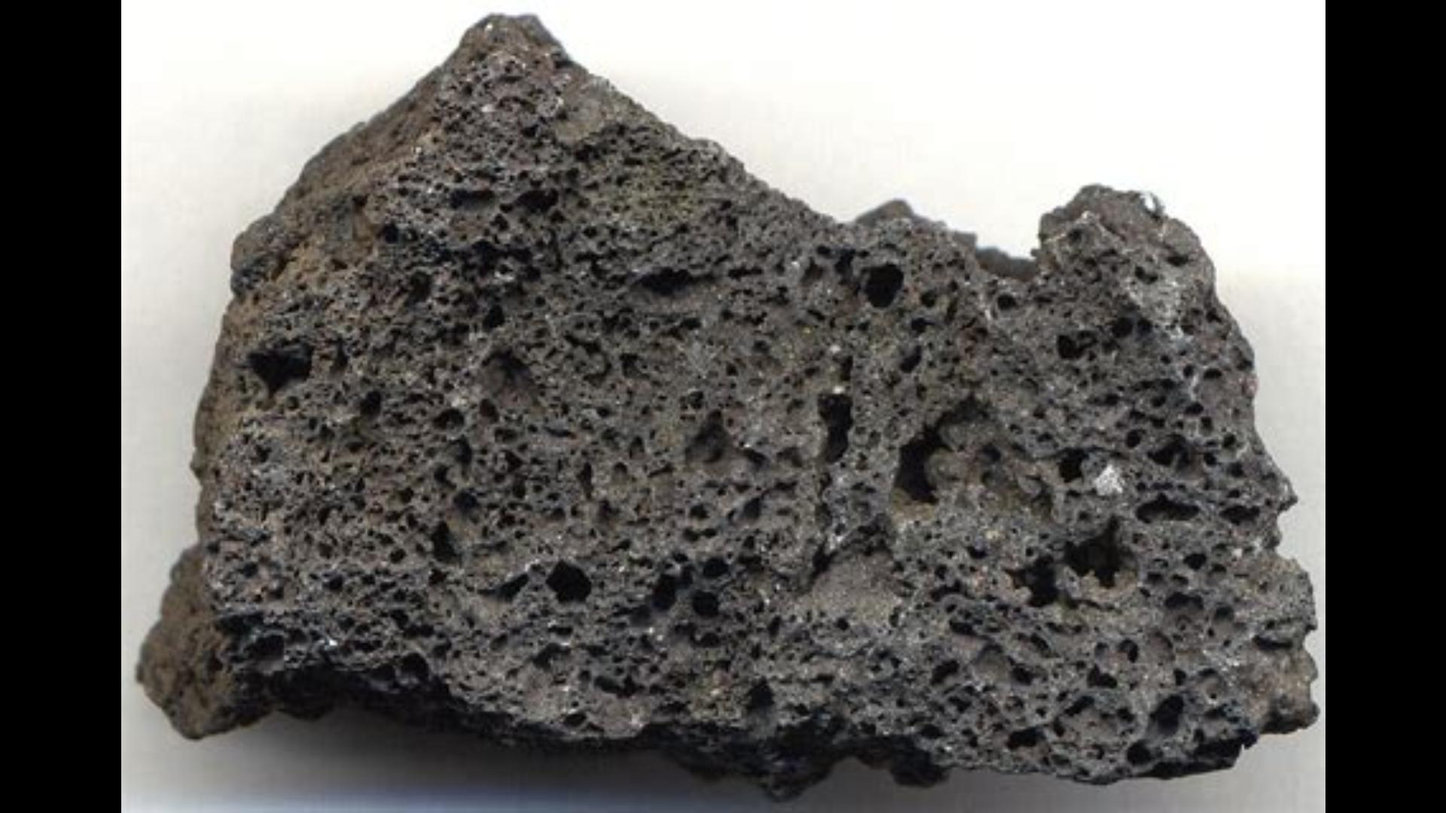rock: (138, 15, 1313, 788)
